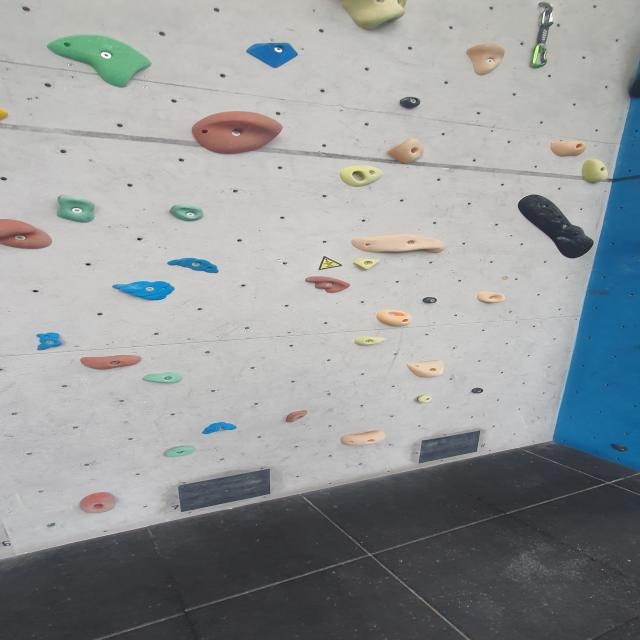Crimp: (42, 33, 159, 90), (246, 42, 302, 68), (110, 281, 176, 301), (79, 353, 144, 370), (165, 260, 220, 274), (338, 430, 385, 444), (159, 443, 201, 458), (351, 335, 394, 348), (138, 373, 188, 384), (281, 409, 314, 423), (35, 335, 63, 351), (201, 422, 238, 433), (410, 394, 442, 406), (400, 95, 424, 107)
Jug: (0, 215, 62, 252), (338, 0, 407, 32), (349, 234, 447, 254), (461, 41, 510, 74), (51, 196, 98, 224), (386, 137, 430, 165), (300, 273, 356, 294), (77, 491, 121, 513), (546, 138, 588, 160), (168, 204, 206, 222), (476, 288, 506, 306)
Pinch: (577, 158, 614, 186)
Pocket: (338, 164, 388, 187), (372, 309, 416, 329), (405, 360, 446, 378)
Sloper: (515, 194, 597, 260), (187, 110, 287, 154)
